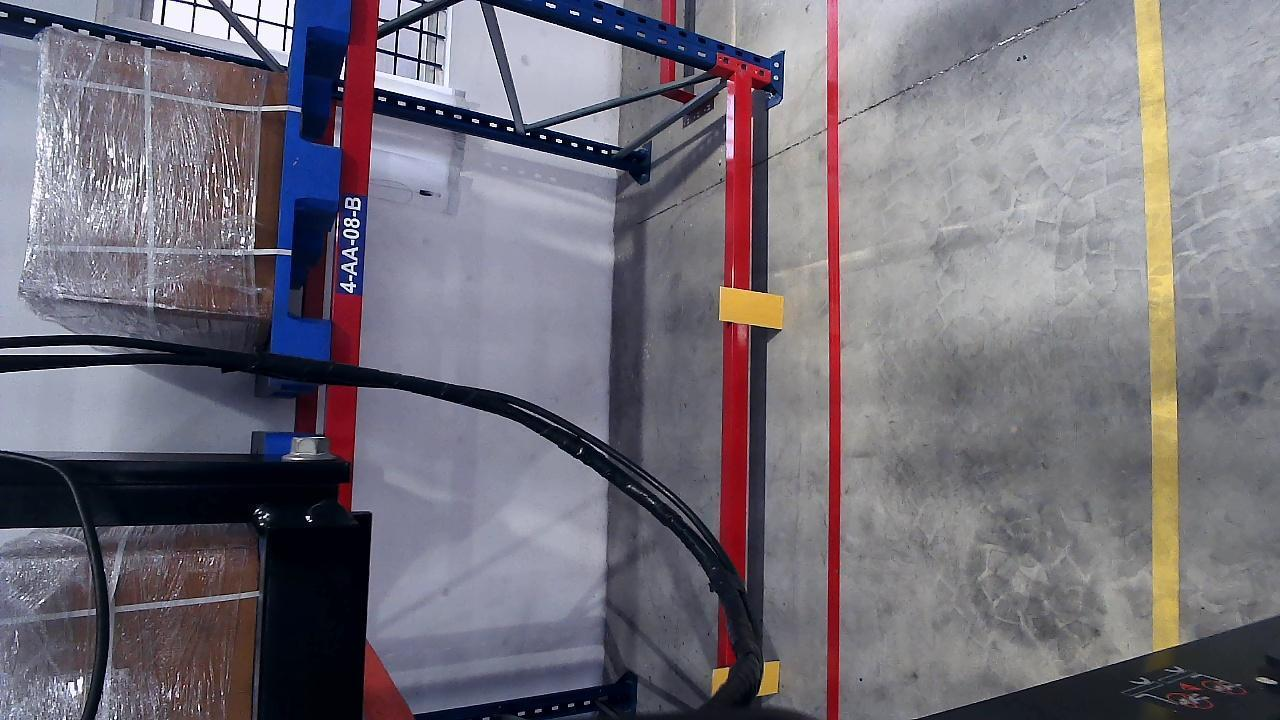red_line: (823, 0, 842, 720)
yellow_line: (1135, 0, 1181, 648)
